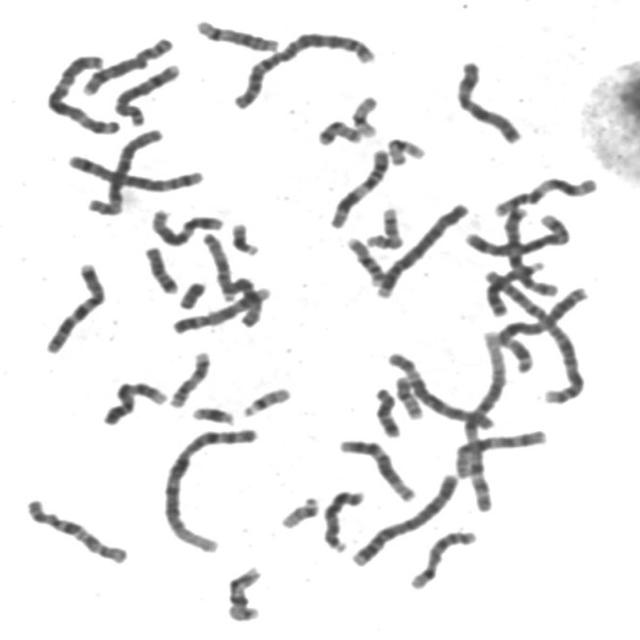A1: (157, 420, 261, 555), (457, 325, 510, 514)
A2: (481, 264, 589, 406), (226, 26, 380, 111)
A3: (494, 282, 591, 372), (42, 49, 124, 136)
B4: (346, 468, 462, 568), (370, 197, 472, 300)
B5: (62, 149, 206, 193), (459, 208, 574, 259)
C10: (20, 493, 132, 567), (448, 425, 550, 480)
C11: (324, 143, 393, 231), (488, 170, 602, 218)
C12: (334, 434, 420, 504), (145, 204, 226, 248)
C6: (382, 346, 500, 431), (82, 123, 167, 217)
C7: (39, 258, 109, 356), (499, 202, 562, 298)
C8: (76, 32, 178, 98), (108, 58, 184, 128)
C9: (167, 282, 271, 336), (97, 375, 171, 428)
D13: (482, 255, 548, 318), (318, 485, 368, 554)
D14: (409, 530, 481, 592), (190, 14, 283, 53)
D15: (198, 229, 238, 302), (226, 272, 265, 329)
E16: (222, 561, 266, 623), (342, 232, 388, 287)
E17: (165, 346, 214, 410), (222, 561, 266, 623)
E18: (139, 241, 181, 295), (368, 383, 404, 439)
F19: (346, 90, 382, 139), (382, 133, 430, 167)
F20: (390, 370, 427, 420), (313, 115, 366, 147)
G21: (226, 218, 263, 257), (186, 400, 238, 427)
G22: (237, 382, 294, 419), (276, 491, 322, 531)
X: (450, 54, 527, 146)
Y: (173, 277, 210, 311)
